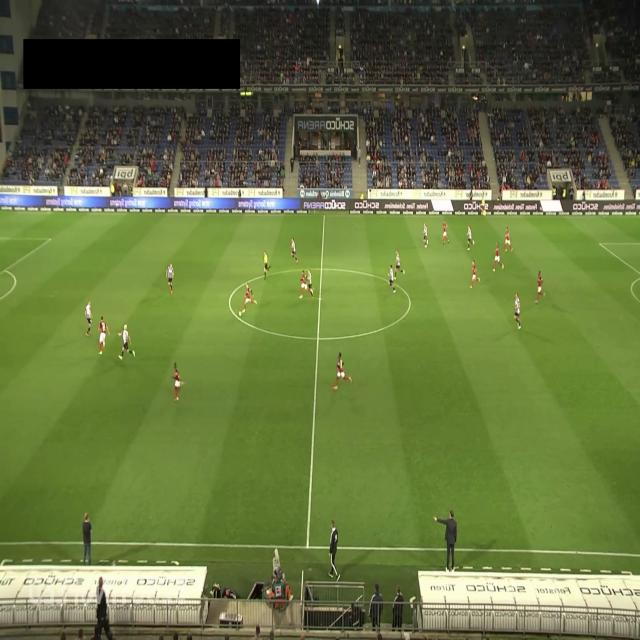ball: (238, 310, 242, 316)
player: (332, 352, 352, 391), (117, 324, 136, 359), (98, 315, 111, 355), (172, 362, 185, 402), (298, 270, 313, 300), (242, 283, 257, 313), (492, 242, 504, 272), (535, 270, 545, 304), (85, 299, 93, 336), (396, 250, 406, 278), (470, 260, 480, 288), (305, 268, 314, 299), (514, 293, 521, 329), (388, 264, 396, 295), (166, 263, 174, 294), (504, 226, 513, 252), (442, 221, 450, 245), (291, 236, 298, 262), (466, 225, 473, 250), (423, 222, 428, 247)
referee: (263, 250, 271, 280), (480, 192, 486, 218)
